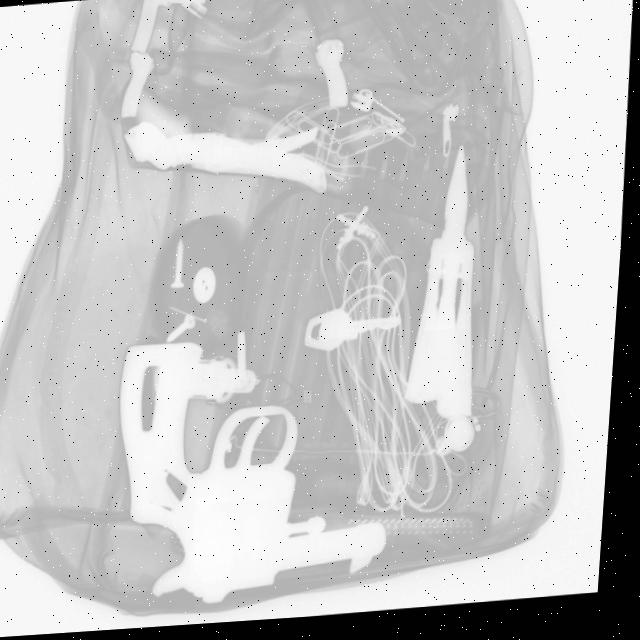pistol: (110, 323, 410, 619)
